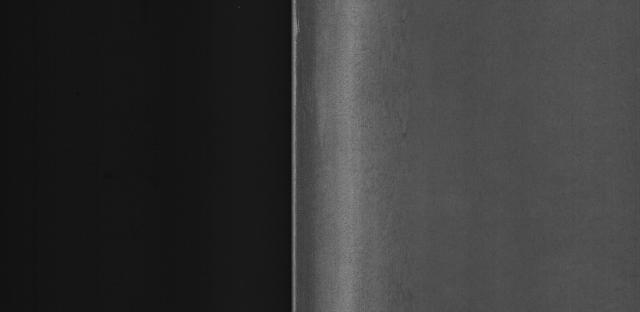silk_spot: (311, 22, 409, 279)
